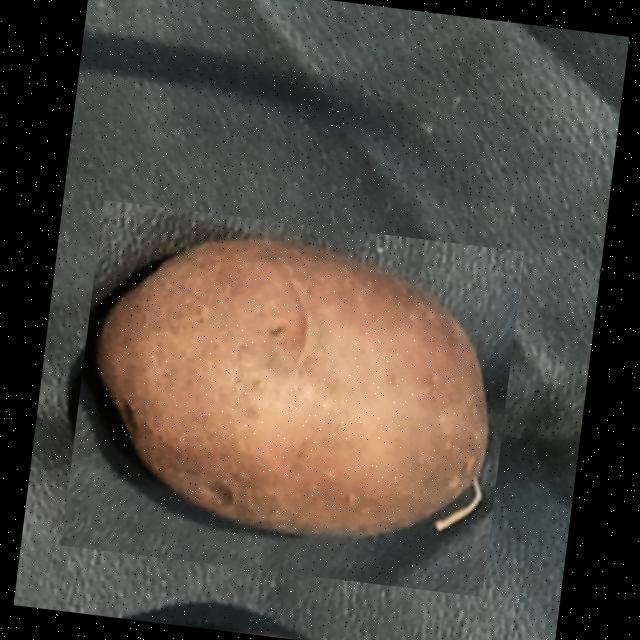Diseased-fungal potato: (60, 198, 523, 596)
